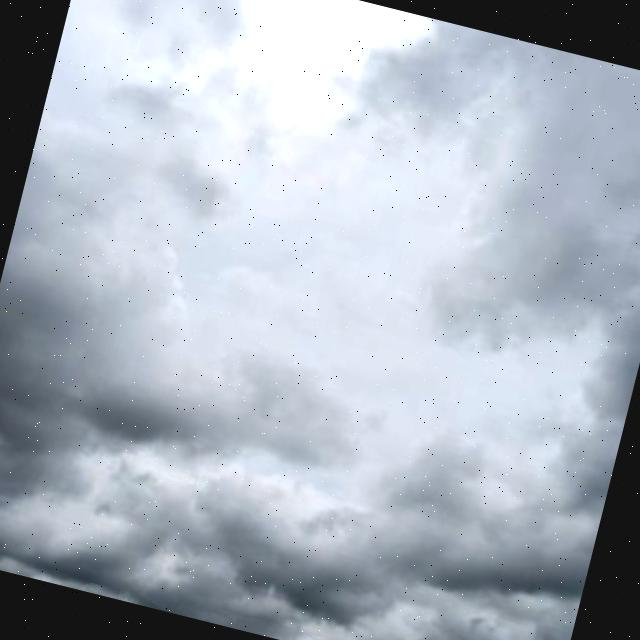Ns: (1, 21, 640, 640)
